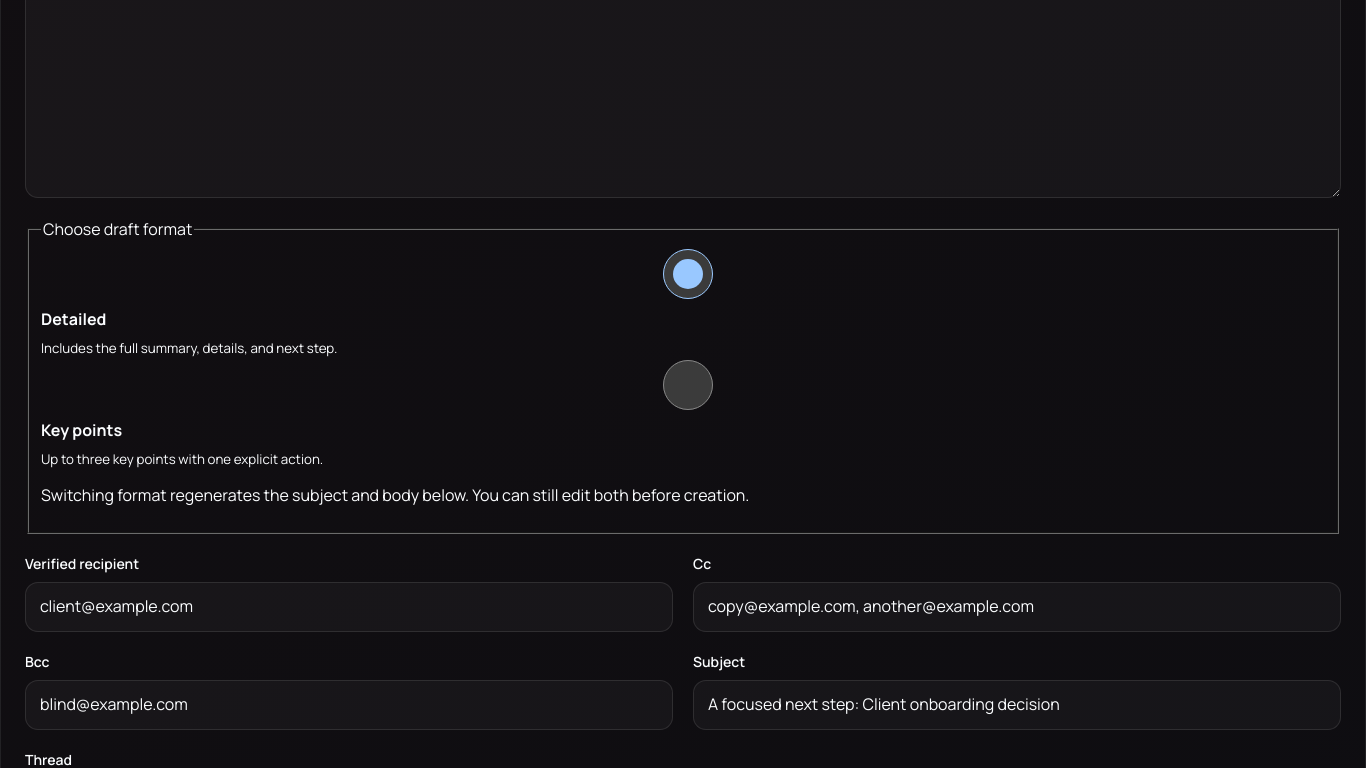
Test: ActionDraftEditor template choice › lets the user choose detailed or key-points content before creating a Gmail draft
(page scrolled)
Expected: the element "Choose draft format" is shown, [27,218,1339,534]
Expected: the radio button labelled "Detailed Includes the full summary, details, and next step." is checked, [46,248,1330,298]
Click the radio button labelled "Key points Up to three key points with one explicit action.". click: x=688, y=384
box: [46,360,1330,410]
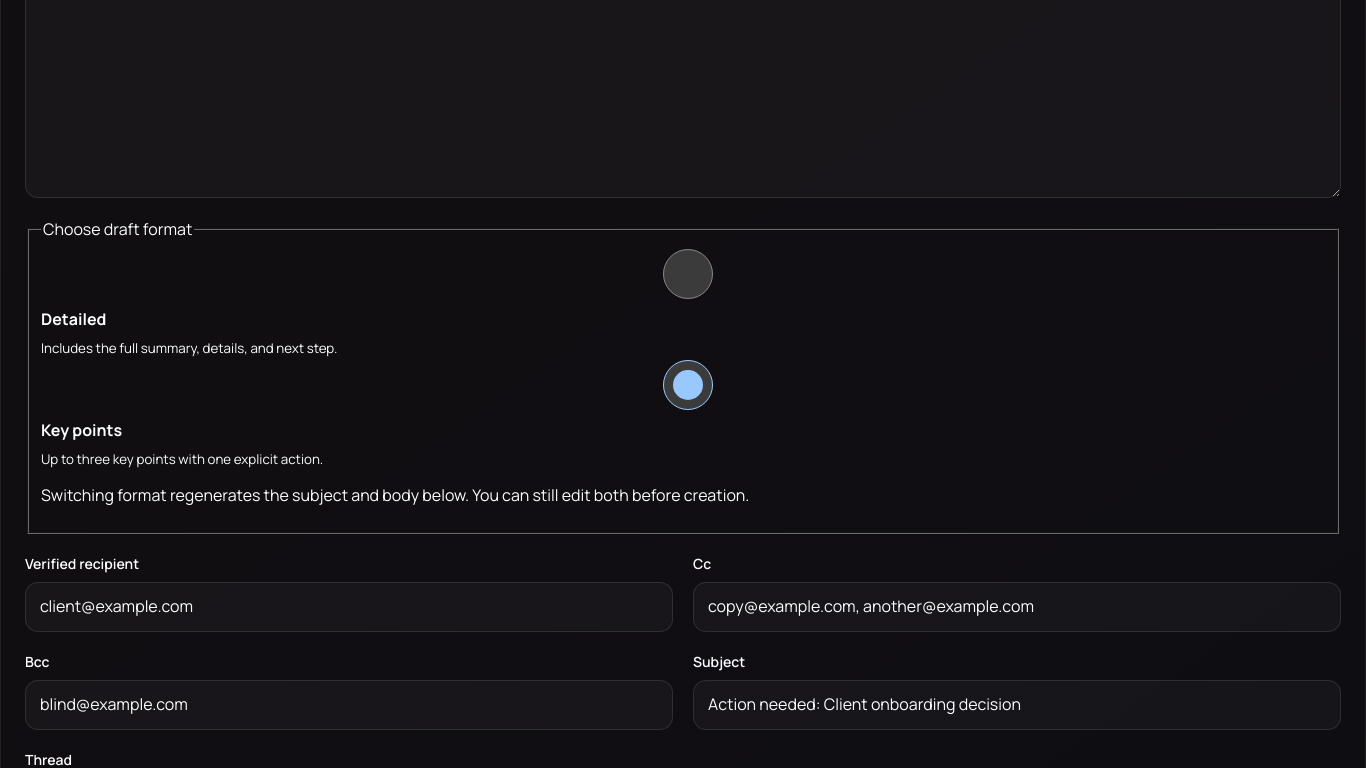
Now the radio button labelled "Key points Up to three key points with one explicit action." is checked, box [46,360,1330,410]
Now the field labelled "Subject" holds "Action needed: Client onboarding decision", box [693,680,1341,730]
